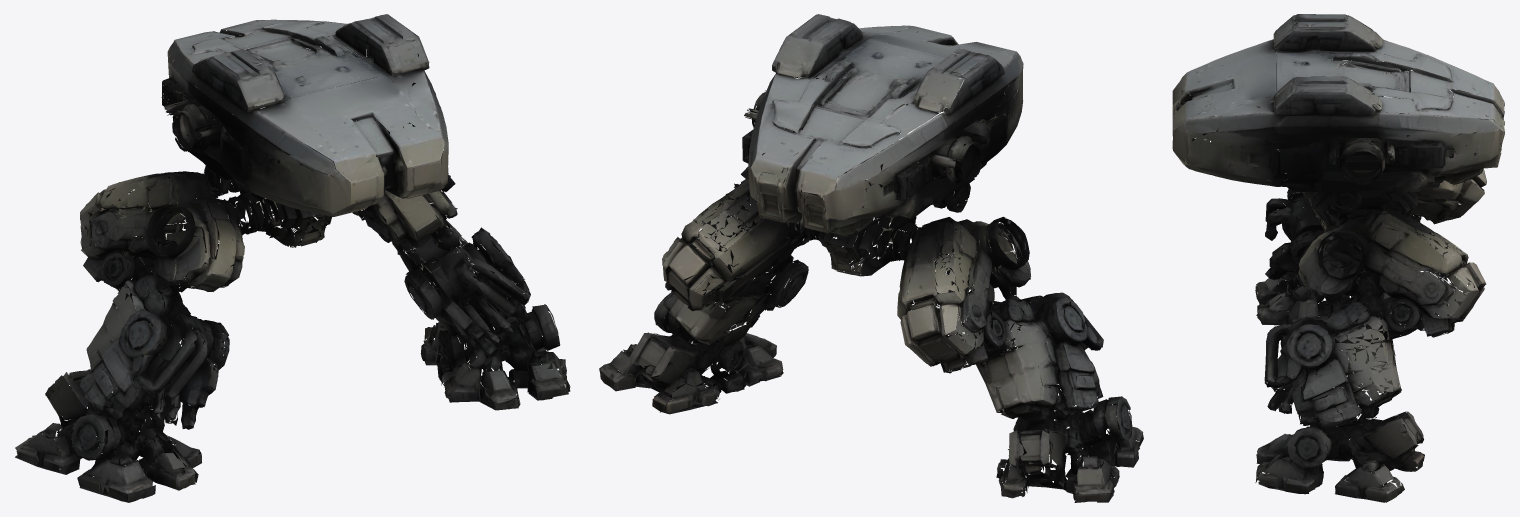
File: heavy_26cbe.glb
3 views of the same model, side by side, from view 1: azimuth 30°, elevation 25°; view 2: azimuth 150°, elevation 25°; view 3: azimuth 270°, elevation 25° (orthographic). The views are drawn at different scales.
Visible parts, largest first — view 1: hull, thigh_l, foot_l, shin_l, foot_r, shin_r, thigh_r, pelvis; view 2: hull, thigh_l, foot_l, shin_l, foot_r, thigh_r, shin_r, pelvis; view 3: hull, thigh_r, shin_r, foot_r, foot_l, shin_l, pelvis, thigh_l.
Part boxes in pixels (left/top/right/bottom): hull: left=161, top=14, right=448, bottom=216; thigh_l: left=80, top=171, right=244, bottom=298; foot_l: left=15, top=369, right=201, bottom=502; shin_l: left=80, top=282, right=229, bottom=413; foot_r: left=420, top=288, right=570, bottom=410; shin_r: left=378, top=220, right=530, bottom=339; thigh_r: left=352, top=166, right=457, bottom=244; pelvis: left=196, top=172, right=341, bottom=247; hull: left=742, top=14, right=1023, bottom=235; thigh_l: left=897, top=196, right=1030, bottom=373; foot_l: left=996, top=380, right=1143, bottom=502; shin_l: left=949, top=283, right=1103, bottom=413; foot_r: left=599, top=292, right=783, bottom=414; thigh_r: left=662, top=167, right=813, bottom=311; shin_r: left=663, top=218, right=808, bottom=339; pelvis: left=776, top=201, right=941, bottom=276; hull: left=1172, top=14, right=1504, bottom=206; thigh_r: left=1298, top=201, right=1486, bottom=336; shin_r: left=1264, top=295, right=1445, bottom=421; foot_r: left=1255, top=388, right=1424, bottom=502; foot_l: left=1255, top=241, right=1420, bottom=325; shin_l: left=1265, top=189, right=1444, bottom=270; pelvis: left=1309, top=180, right=1459, bottom=251; thigh_l: left=1302, top=155, right=1486, bottom=221.
Bounding box in the file's own units: 6.14 × 4.28 × 3.8.
Materials: 1 (1 with a texture image).
